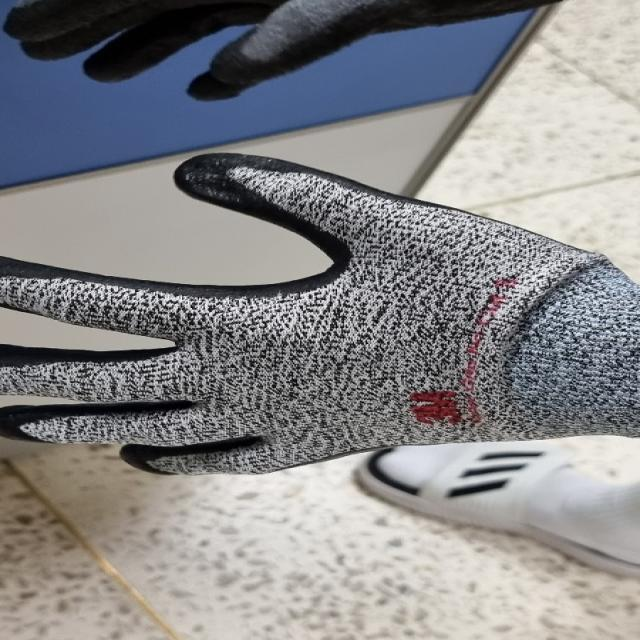Gloves: (0, 145, 638, 478), (0, 0, 562, 103)
